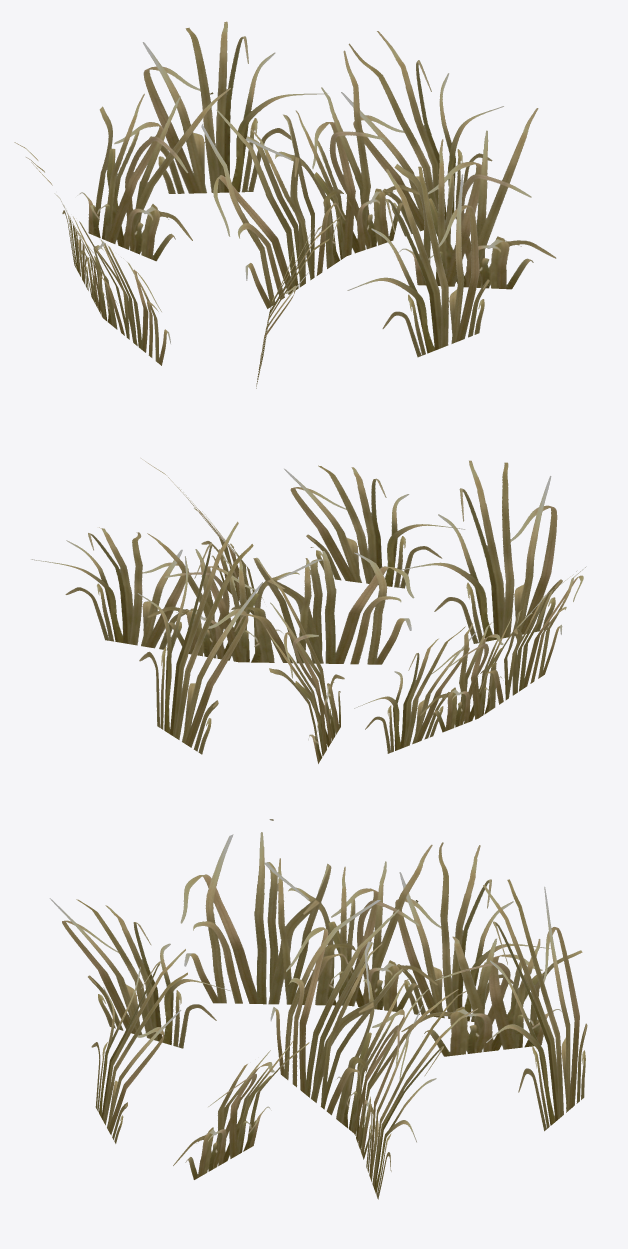
Rendered from grass_patch_L_02.fbx.
3 renders of one model, top to bottom at view 1: azimuth 30°, elevation 25°; view 2: azimuth 150°, elevation 25°; view 3: azimuth 270°, elevation 25°, orthographic. The views are drawn at different scales.
Visible parts, largest first — view 1: Grass_Plane_A0019; view 2: Grass_Plane_A0019; view 3: Grass_Plane_A0019.
Part boxes in pixels (left/top/right/bottom): Grass_Plane_A0019: left=14, top=21, right=556, bottom=388; Grass_Plane_A0019: left=31, top=458, right=586, bottom=763; Grass_Plane_A0019: left=49, top=819, right=587, bottom=1199.
Size of the model in its own units: 148 by 58.72 by 140.
